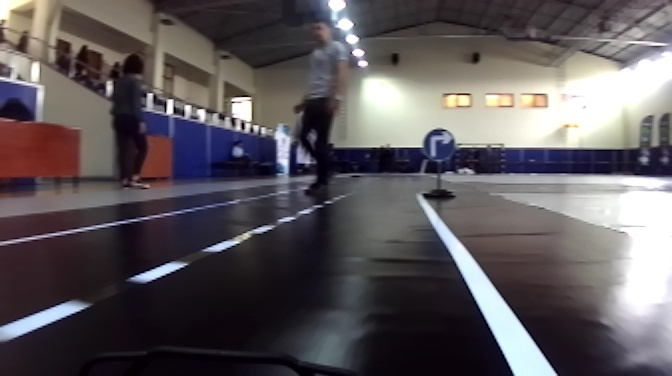saga_donus: (423, 129, 458, 162)
